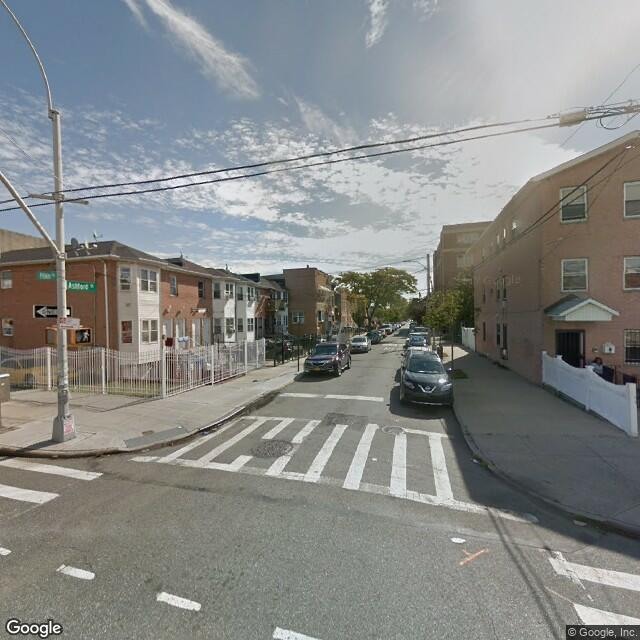litter: (466, 459, 474, 467)
